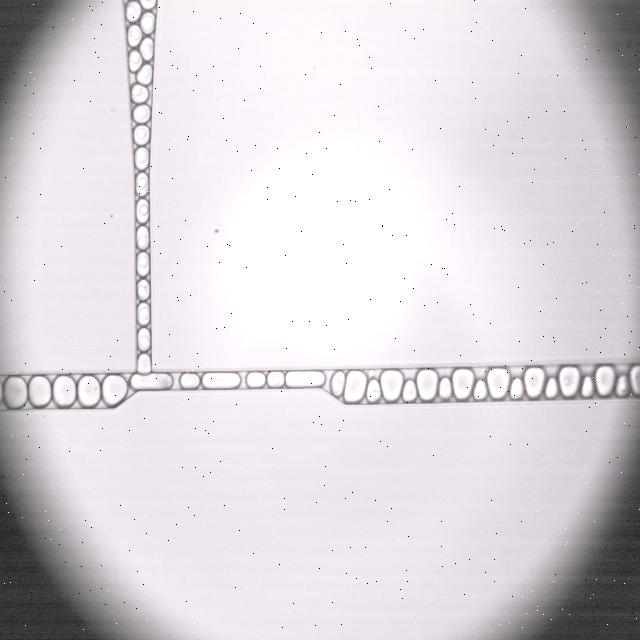L: (331, 372, 345, 397), (134, 147, 149, 170), (131, 84, 149, 103), (136, 64, 152, 85), (127, 24, 142, 46), (133, 104, 150, 123), (366, 379, 380, 402), (136, 252, 149, 276), (403, 380, 417, 402), (246, 372, 265, 388), (126, 1, 141, 21), (135, 173, 148, 196), (136, 199, 149, 222), (136, 226, 149, 249), (473, 379, 487, 400), (181, 373, 199, 389), (140, 38, 153, 60), (129, 50, 142, 72), (137, 303, 150, 325), (137, 328, 150, 350), (134, 125, 149, 144), (137, 354, 151, 374), (141, 12, 154, 33), (510, 378, 523, 399), (267, 372, 284, 388), (616, 375, 628, 397), (137, 279, 149, 300), (439, 377, 451, 398), (581, 376, 593, 397), (545, 378, 557, 398), (140, 0, 156, 9)
S: (102, 375, 127, 405), (4, 376, 27, 408), (380, 370, 403, 401), (131, 373, 172, 390), (53, 375, 75, 406), (78, 375, 100, 406), (344, 371, 366, 402), (452, 369, 474, 400), (286, 371, 325, 388), (29, 376, 51, 406), (487, 368, 509, 398), (559, 366, 580, 397), (202, 372, 240, 389), (417, 370, 437, 401), (524, 367, 544, 397), (595, 366, 614, 396), (630, 365, 640, 394)
